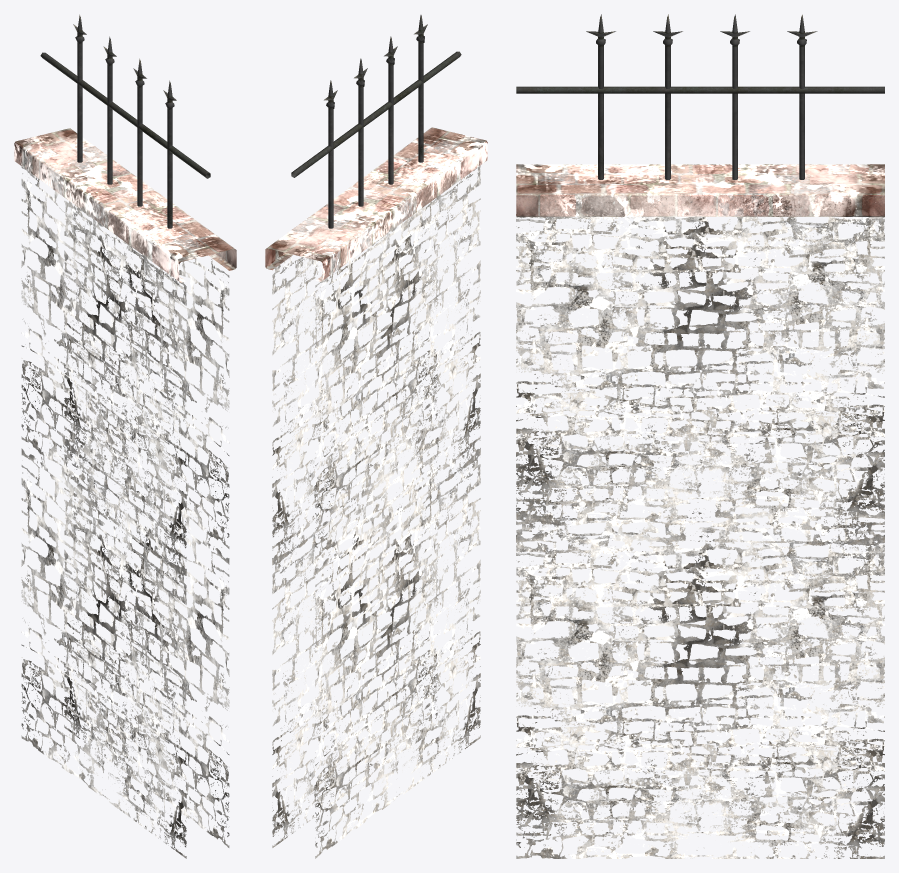
File: SM_fence_2m_03.fbx
3 renders of one model, left to right at view 1: azimuth 30°, elevation 25°; view 2: azimuth 150°, elevation 25°; view 3: azimuth 270°, elevation 25°, orthographic. The views are drawn at different scales.
Parts seen in each view (by area): view 1: SM_fence_2m_03_LOD0; view 2: SM_fence_2m_03_LOD0; view 3: SM_fence_2m_03_LOD0.
Boxes of the visible parts, box(x1,y1,x2,y2) form: SM_fence_2m_03_LOD0: box(14, 14, 236, 858); SM_fence_2m_03_LOD0: box(265, 15, 487, 858); SM_fence_2m_03_LOD0: box(516, 14, 884, 858).
Size of the model in its own units: 40 by 200 by 499.
Materials: 3 (3 with a texture image).
